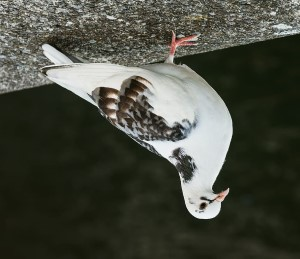pigeon: (38, 26, 236, 221)
